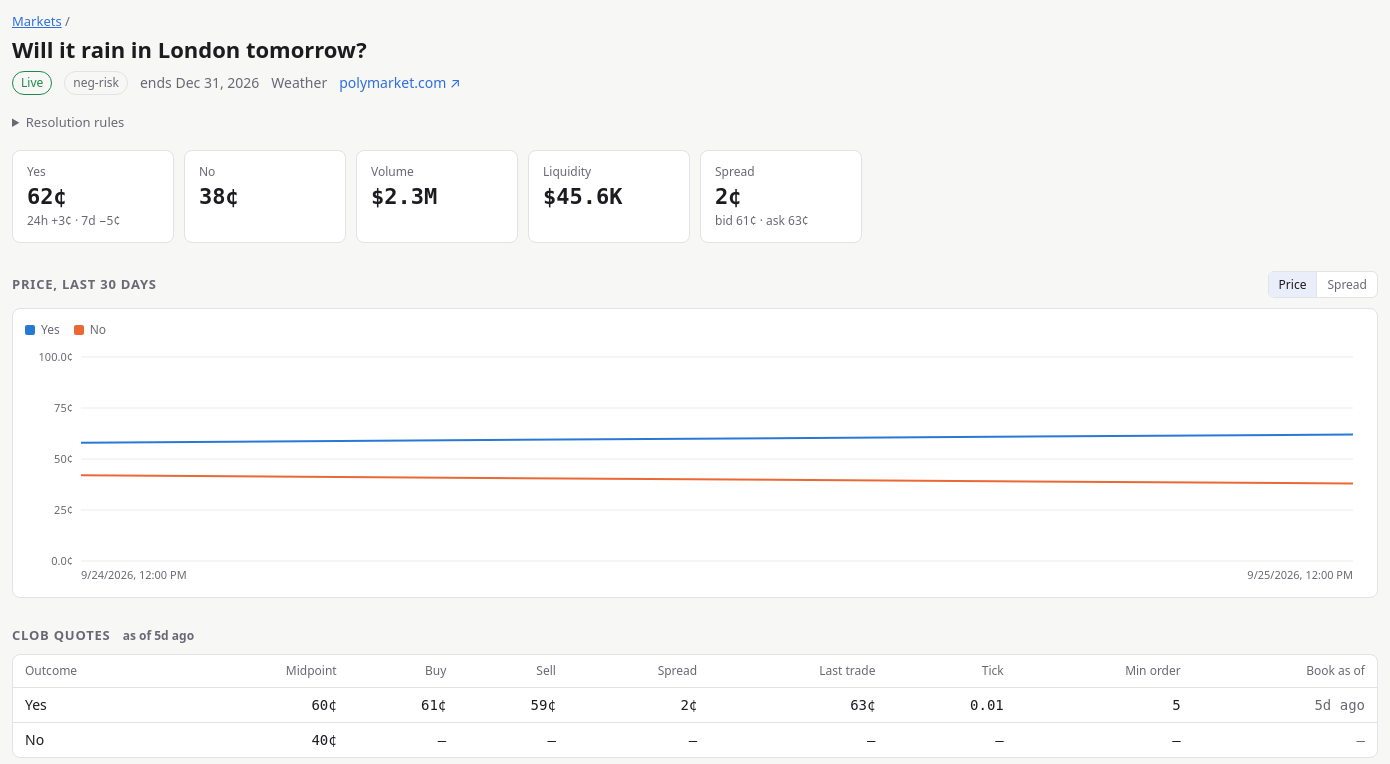
Test: Market page › switches the chart between price and spread
The image size is (1390, 764).
Expected: the heading "Will it rain in London tomorrow?" is shown, [12, 35, 367, 63]
Expected: the heading "Price, last 30 days" is shown, [12, 275, 157, 294]
Step 1. Click the button "Spread" → coordinates (1347, 284), box [1316, 272, 1377, 297]
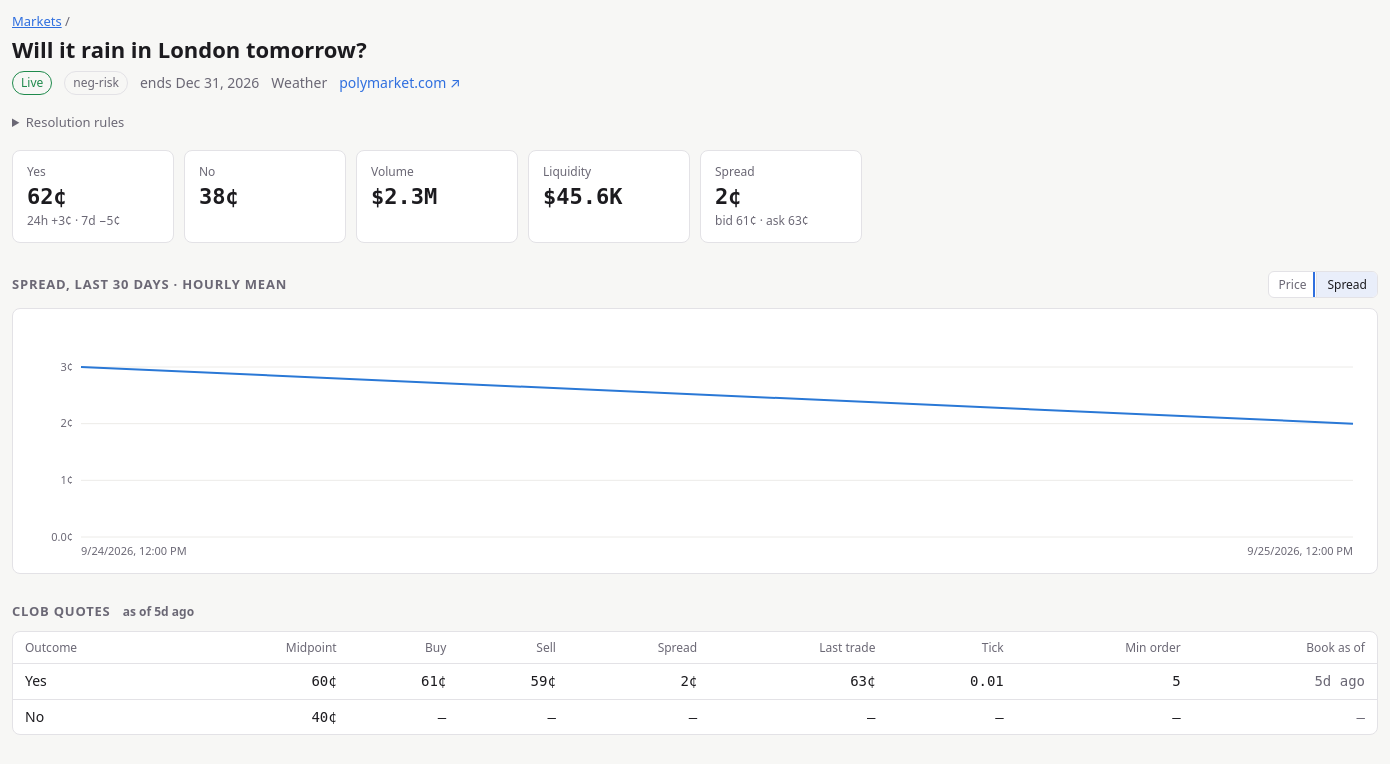
Expected: the picture named "Yes" is shown, [25, 321, 1365, 561]
Result: the heading "Spread, last 30 days · hourly mean" is shown at [12, 275, 287, 294]
Result: the heading "Price, last 30 days" is gone
Step 2. Click the button "Price" → coordinates (1292, 284), box [1269, 272, 1316, 297]
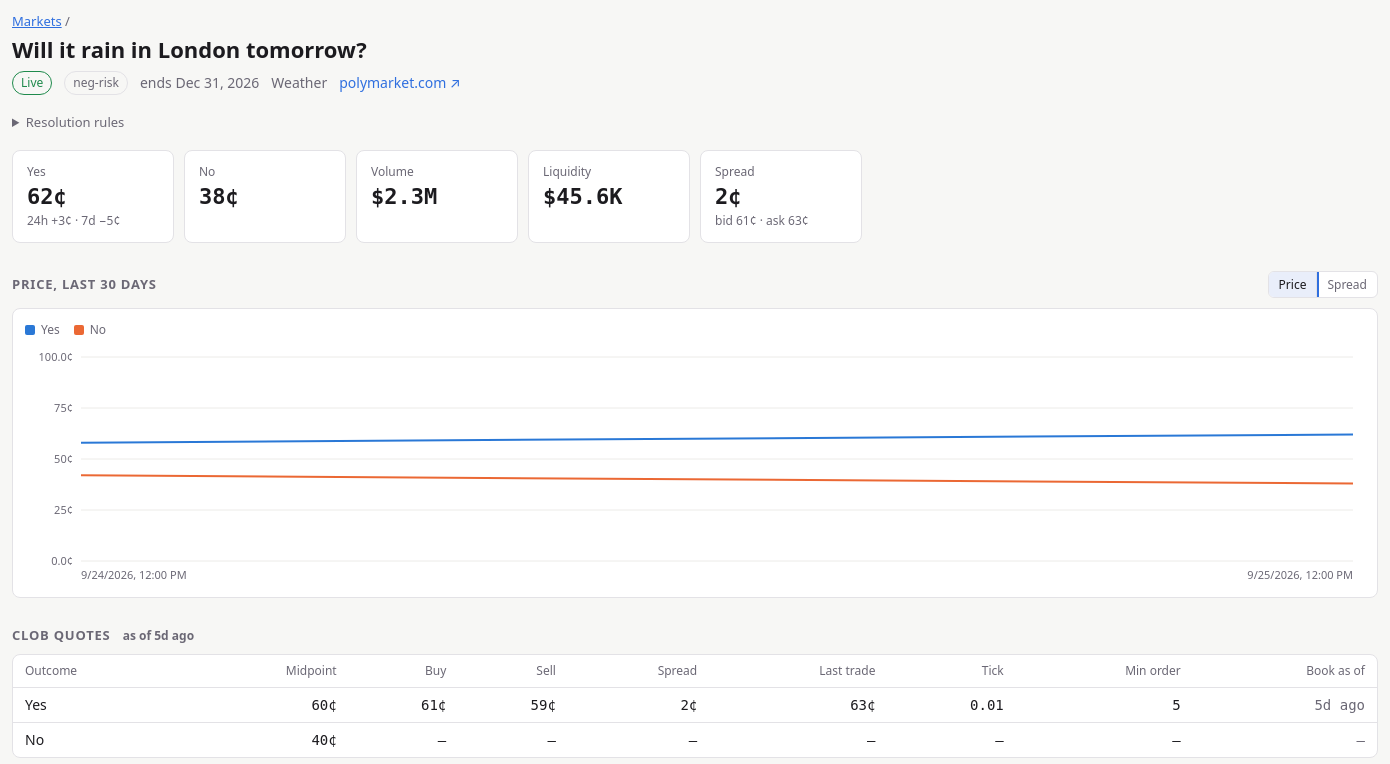
Result: the heading "Price, last 30 days" is shown at [12, 275, 157, 294]
